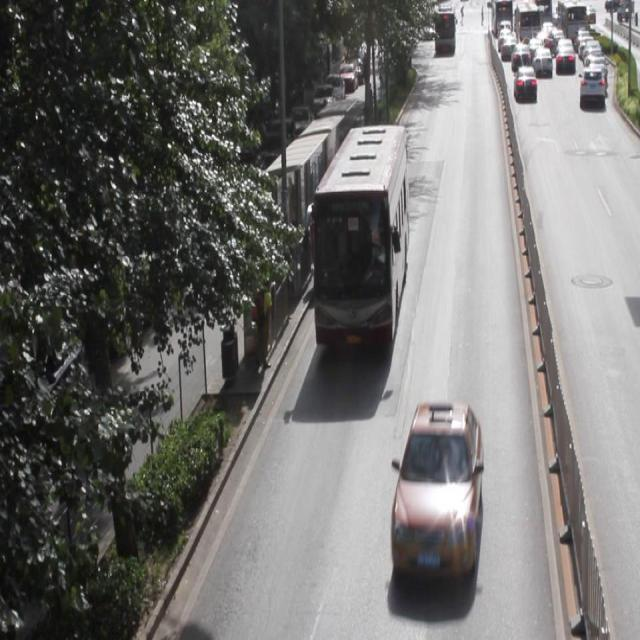car: (390, 401, 482, 582)
van: (313, 125, 407, 351)
